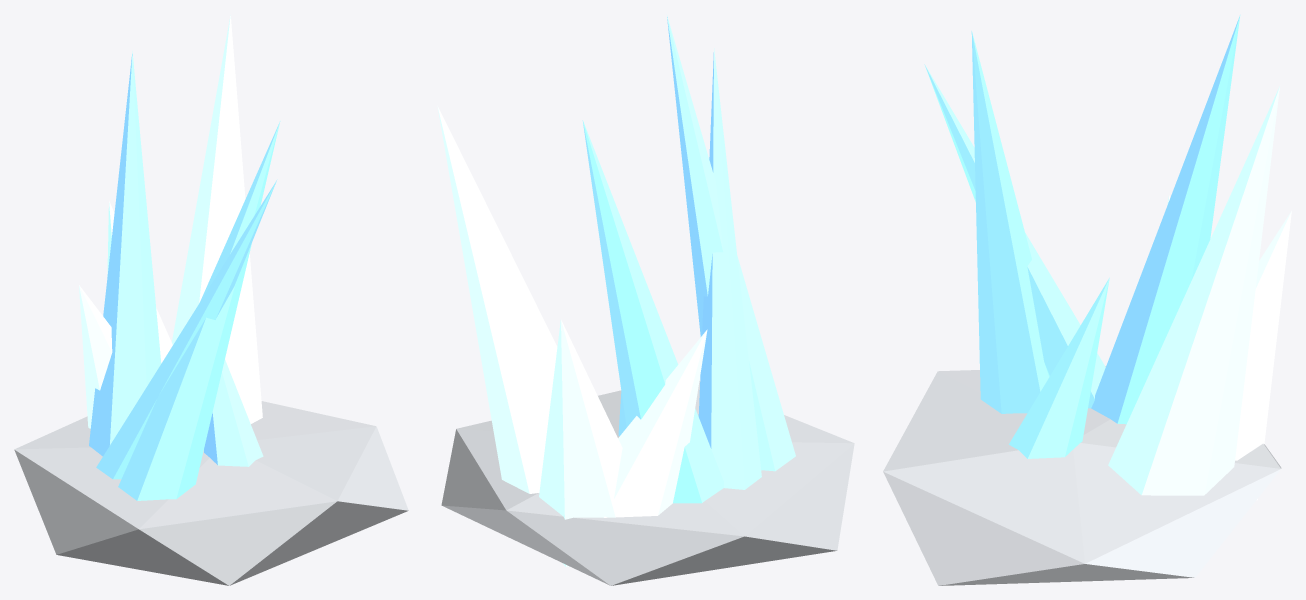
File: ice_crystal.glb
3 renders of one model, left to right at view 1: azimuth 30°, elevation 25°; view 2: azimuth 150°, elevation 25°; view 3: azimuth 270°, elevation 25°, orthographic. The views are drawn at different scales.
Parts seen in each view (by area): view 1: ice_crystal; view 2: ice_crystal; view 3: ice_crystal.
Boxes of the visible parts, x1,y1,x2,y2 form: ice_crystal: (14, 15, 408, 585); ice_crystal: (437, 15, 854, 585); ice_crystal: (883, 15, 1291, 585).
Size of the model in its own units: 2.15 by 2.72 by 1.91.
